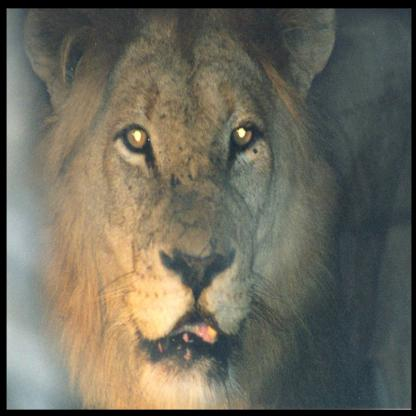lion: (18, 1, 339, 414)
